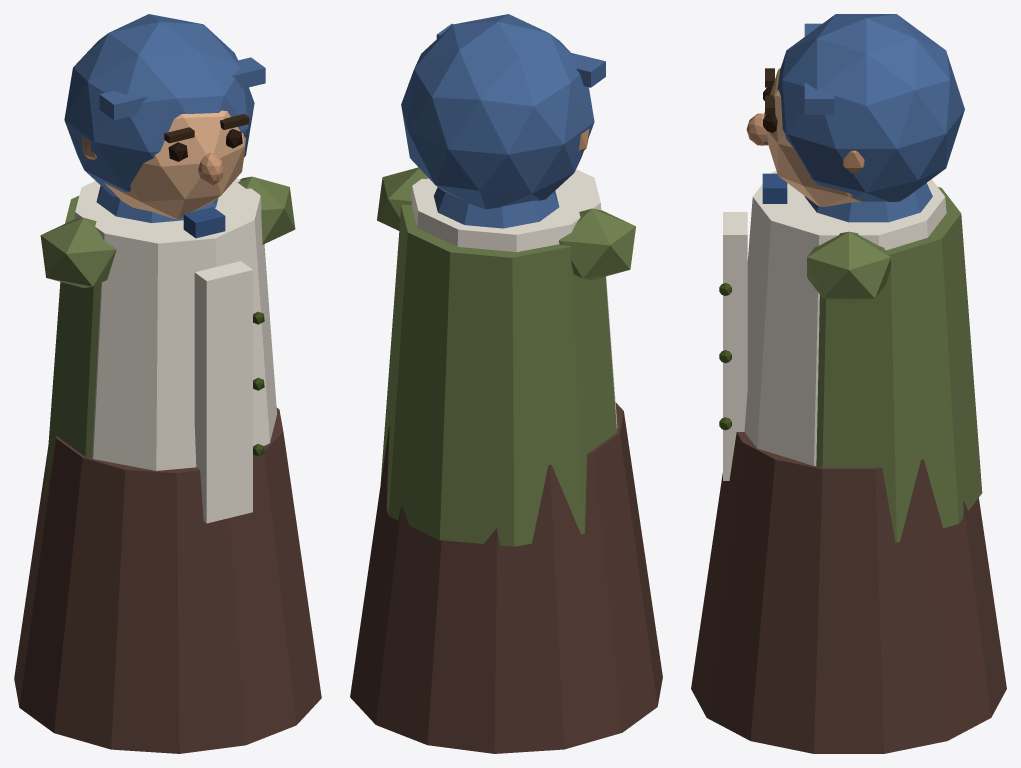
File: insan_k1k_govde.glb
The picture shows the model from 3 angles, left to right: view 1: azimuth 30°, elevation 25°; view 2: azimuth 150°, elevation 25°; view 3: azimuth 270°, elevation 25°; orthographic projection.
Visible parts, largest first — view 1: Cone; view 2: Cone; view 3: Cone.
Boxes of the visible parts, x1,y1,x2,y2 form: Cone: (14,14,321,753); Cone: (350,14,662,753); Cone: (691,14,1006,753).
Bounding box in the file's own units: 0.1248 × 0.2998 × 0.128.
